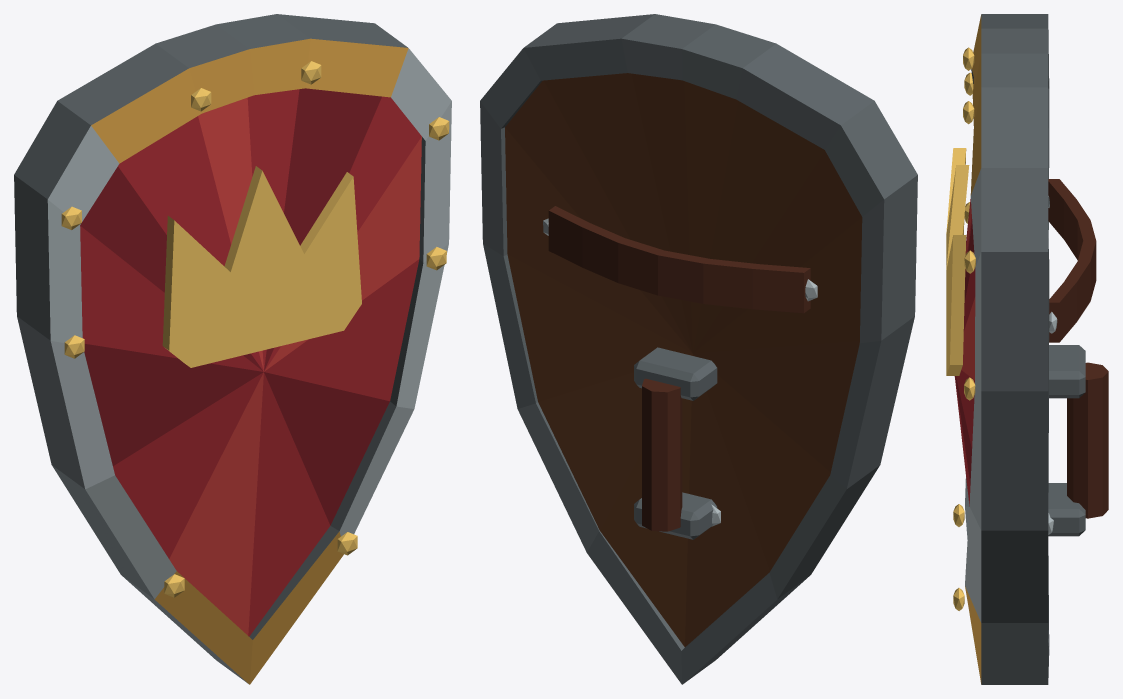
File: champion_shield_ai_1.glb
3 views of the same model, side by side, from view 1: azimuth 30°, elevation 25°; view 2: azimuth 150°, elevation 25°; view 3: azimuth 270°, elevation 25° (orthographic).
Visible parts, largest first — view 1: Shield_Champion_Core, Shield_Champion_Rim, Shield_Champion_Crown, Shield_Champion; view 2: Shield_Champion_Core, Shield_Champion_Rim, Shield_Champion_Back_Arm_Strap, Shield_Champion_Back_Hand_Grip, Shield_Champion; view 3: Shield_Champion_Rim, Shield_Champion_Back_Hand_Grip, Shield_Champion, Shield_Champion_Back_Arm_Strap, Shield_Champion_Crown, Shield_Champion_Core.
Part boxes in pixels (bbox=[...]): Shield_Champion_Core: bbox=[80, 88, 421, 636]; Shield_Champion_Rim: bbox=[14, 14, 451, 684]; Shield_Champion_Crown: bbox=[162, 166, 361, 367]; Shield_Champion: bbox=[61, 61, 449, 597]; Shield_Champion_Core: bbox=[505, 73, 862, 646]; Shield_Champion_Rim: bbox=[480, 14, 917, 684]; Shield_Champion_Back_Arm_Strap: bbox=[548, 206, 810, 313]; Shield_Champion_Back_Hand_Grip: bbox=[642, 378, 682, 531]; Shield_Champion: bbox=[543, 218, 817, 539]; Shield_Champion_Rim: bbox=[965, 14, 1049, 684]; Shield_Champion_Back_Hand_Grip: bbox=[1067, 362, 1108, 518]; Shield_Champion: bbox=[953, 47, 1085, 610]; Shield_Champion_Back_Arm_Strap: bbox=[1048, 179, 1096, 342]; Shield_Champion_Crown: bbox=[946, 148, 969, 375]; Shield_Champion_Core: bbox=[954, 199, 975, 506].
Bounding box in the file's own units: 0.7126 × 1.07 × 0.2499.
